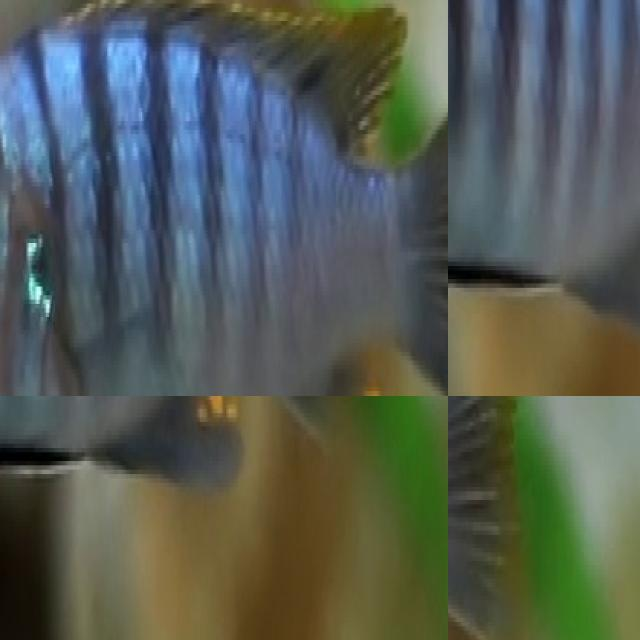fish: (0, 0, 448, 396), (448, 0, 640, 348), (0, 396, 372, 522), (448, 396, 526, 640)
